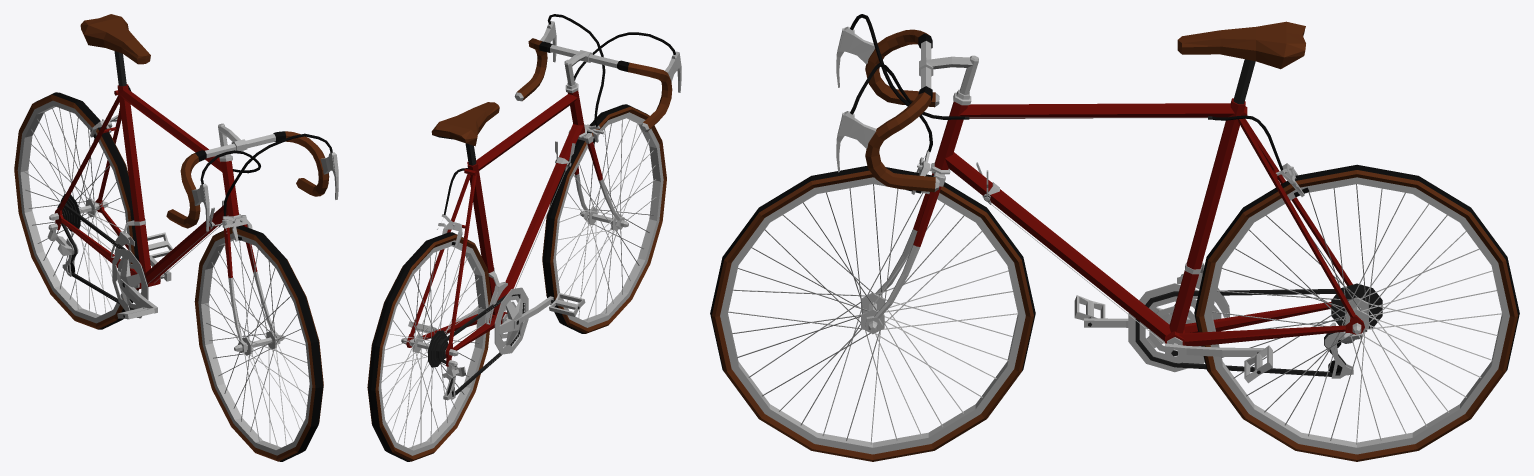
File: RacingBike_01.FBX
The picture shows the model from 3 angles, left to right: view 1: azimuth 30°, elevation 25°; view 2: azimuth 150°, elevation 25°; view 3: azimuth 270°, elevation 25°; orthographic projection. The views are drawn at different scales.
Visible parts, largest first — view 1: wheel_f, wheel_b, RacingBike_01, handleBars, saddle, crankset, steering, chainLowPoly, rearDerailleur, frontBrake_cable, frontDerailleur, casette (+2 smaller); view 2: wheel_b, wheel_f, RacingBike_01, handleBars, crankset, saddle, steering, chainLowPoly, pedal_r, casette, rearDerailleur, frontBrake_cable (+2 smaller); view 3: wheel_b, wheel_f, RacingBike_01, handleBars, saddle, crankset, steering, chainLowPoly, casette, rearBrake_cable.
Boxes of the visible parts, <box> form: wheel_f: <box>194,225,323,461</box>; wheel_b: <box>14,92,139,329</box>; RacingBike_01: <box>54,84,241,289</box>; handleBars: <box>166,131,338,231</box>; saddle: <box>80,14,150,86</box>; crankset: <box>112,249,171,318</box>; steering: <box>218,123,280,352</box>; chainLowPoly: <box>57,203,148,309</box>; rearDerailleur: <box>47,223,78,276</box>; frontBrake_cable: <box>223,133,332,216</box>; frontDerailleur: <box>111,219,145,257</box>; casette: <box>61,193,80,231</box>; wheel_b: <box>367,232,491,461</box>; wheel_f: <box>542,104,666,333</box>; RacingBike_01: <box>406,81,586,366</box>; handleBars: <box>514,21,681,132</box>; crankset: <box>446,287,553,354</box>; saddle: <box>431,102,499,165</box>; steering: <box>564,50,624,229</box>; chainLowPoly: <box>437,294,523,396</box>; pedal_r: <box>549,293,585,316</box>; casette: <box>428,330,448,367</box>; rearDerailleur: <box>442,360,465,400</box>; frontBrake_cable: <box>547,14,605,127</box>; wheel_b: <box>1194,164,1519,461</box>; wheel_f: <box>710,166,1035,461</box>; RacingBike_01: <box>931,89,1364,346</box>; handleBars: <box>836,26,939,192</box>; saddle: <box>1177,21,1305,104</box>; crankset: <box>1084,283,1264,372</box>; steering: <box>865,55,978,332</box>; chainLowPoly: <box>1135,289,1345,376</box>; casette: <box>1331,283,1382,330</box>; rearBrake_cable: <box>965,115,1283,170</box>.
Bounding box in the file's own units: 5.34 × 11.69 × 20.04.
